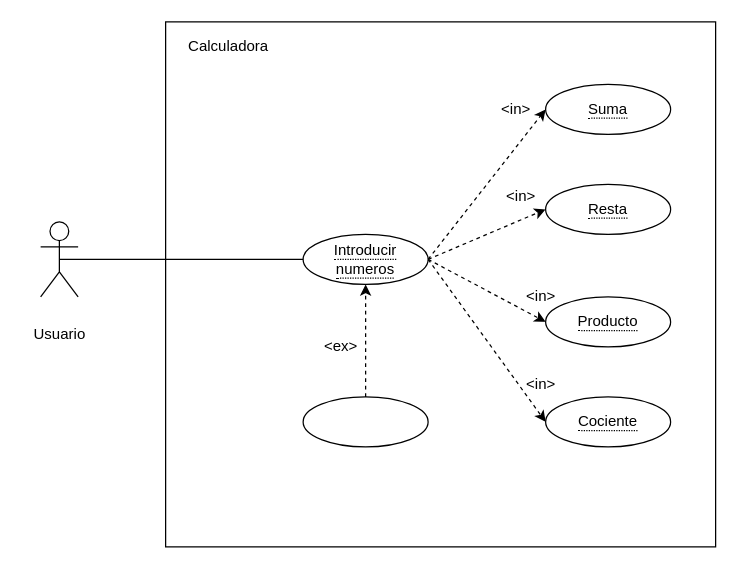
The diagram is 738 pixels wide and 569 high, and some of its shapes have lost their labels. The centre of each missing label's shape, as x and y in pixels:
"Actor" belongs at (58,259).
"Borrar" belongs at (365,421).
